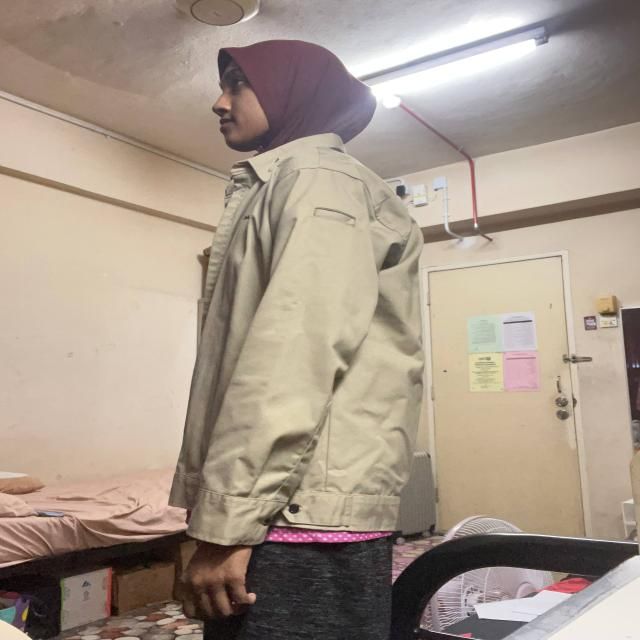person_with_labcoat: (169, 40, 423, 640)
